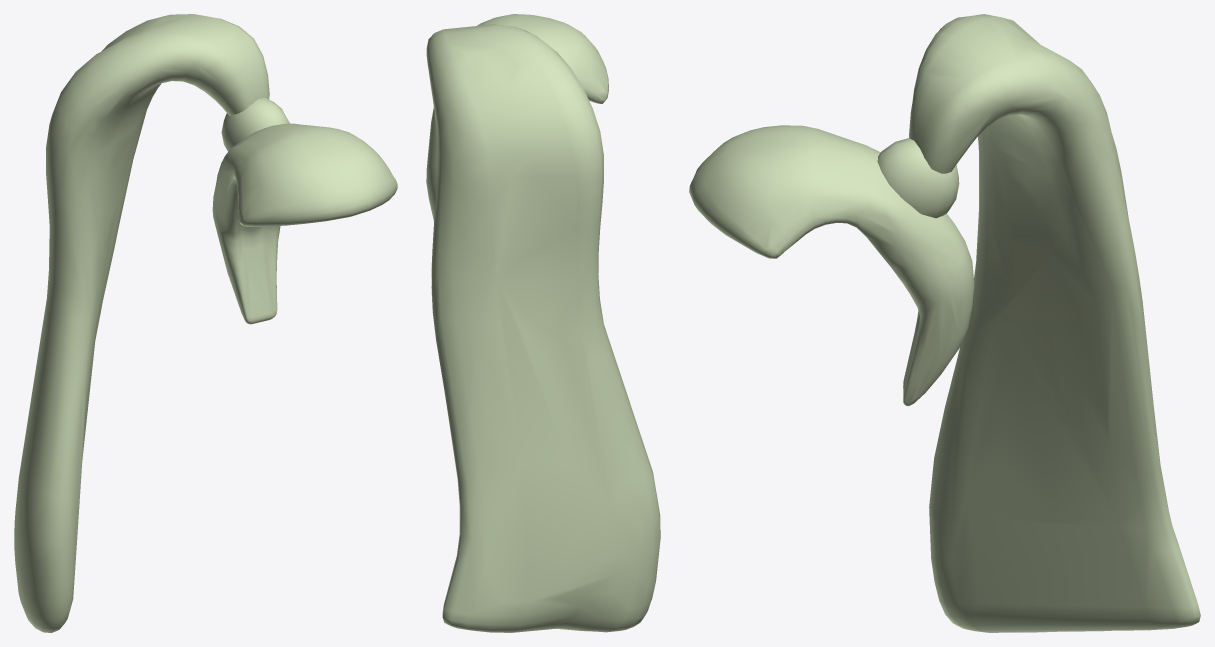
File: Mane_07.fbx
3 views of the same model, side by side, from view 1: azimuth 30°, elevation 25°; view 2: azimuth 150°, elevation 25°; view 3: azimuth 270°, elevation 25° (orthographic). The views are drawn at different scales.
Visible parts, largest first — view 1: Mane_07; view 2: Mane_07; view 3: Mane_07.
Boxes of the visible parts, x1,y1,x2,y2 form: Mane_07: [14, 14, 397, 632]; Mane_07: [426, 14, 660, 632]; Mane_07: [689, 14, 1200, 632].
Size of the model in its own units: 208 by 395 by 273.
